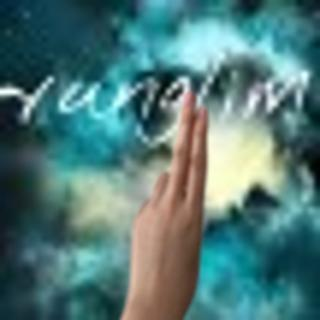DHAVE: (120, 89, 215, 316)
